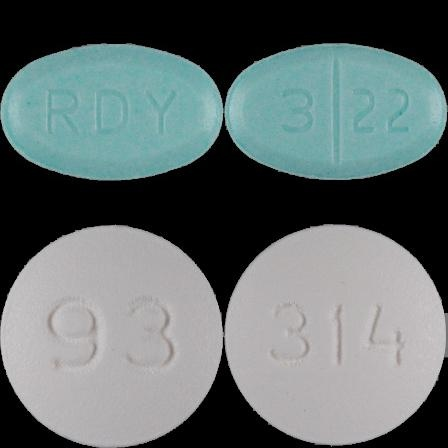10544-219: (0, 0, 224, 224)
